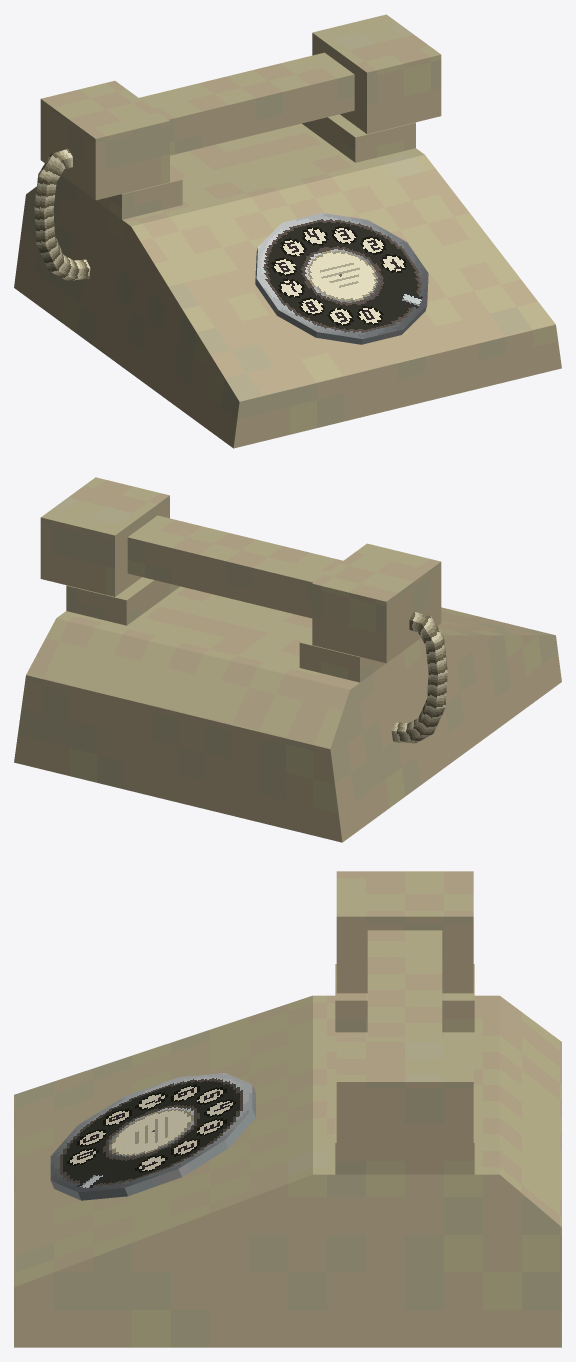
Rendered from desk_phone.glb.
3 renders of one model, top to bottom at view 1: azimuth 30°, elevation 25°; view 2: azimuth 150°, elevation 25°; view 3: azimuth 270°, elevation 25°, orthographic. The views are drawn at different scales.
Parts seen in each view (by area): view 1: desk_phone; view 2: desk_phone; view 3: desk_phone.
Part boxes in pixels (bbox=[...]): desk_phone: bbox=[14, 14, 561, 448]; desk_phone: bbox=[14, 477, 561, 842]; desk_phone: bbox=[14, 871, 561, 1347].
Size of the model in its own units: 0.2195 by 0.12 by 0.22.
Materials: 4 (4 with a texture image).
